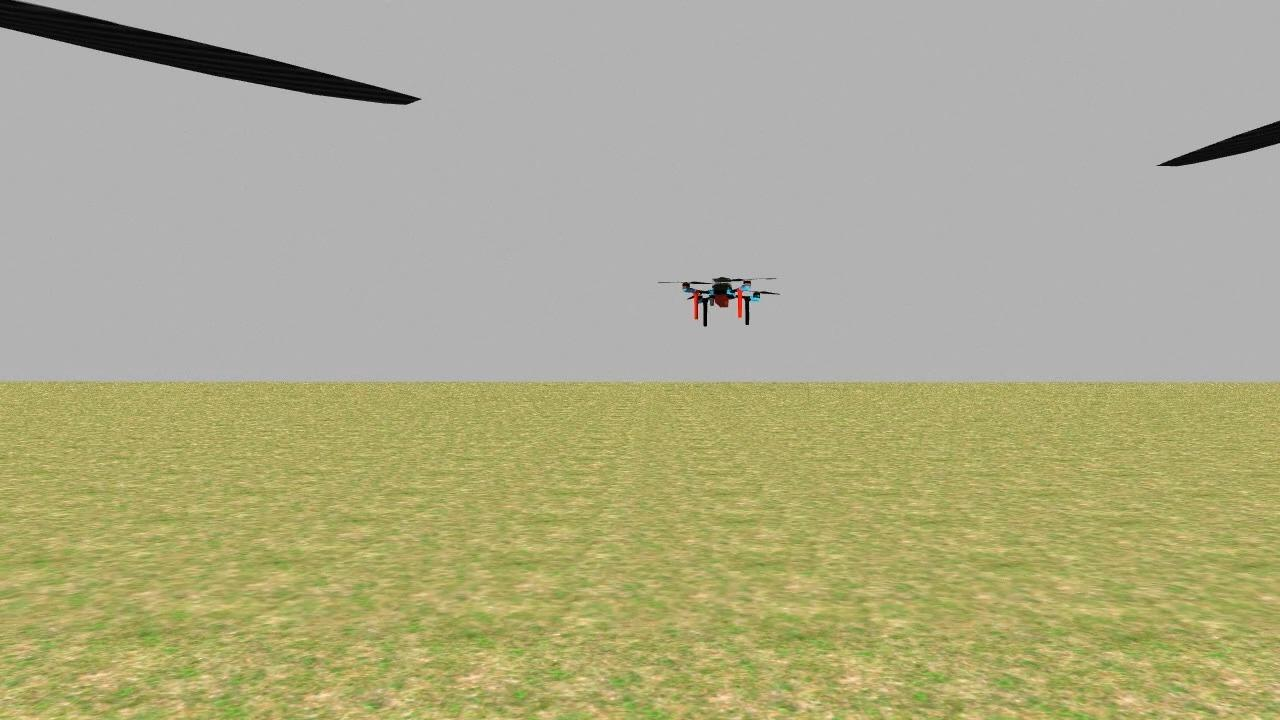UAV: (668, 256, 776, 330)
